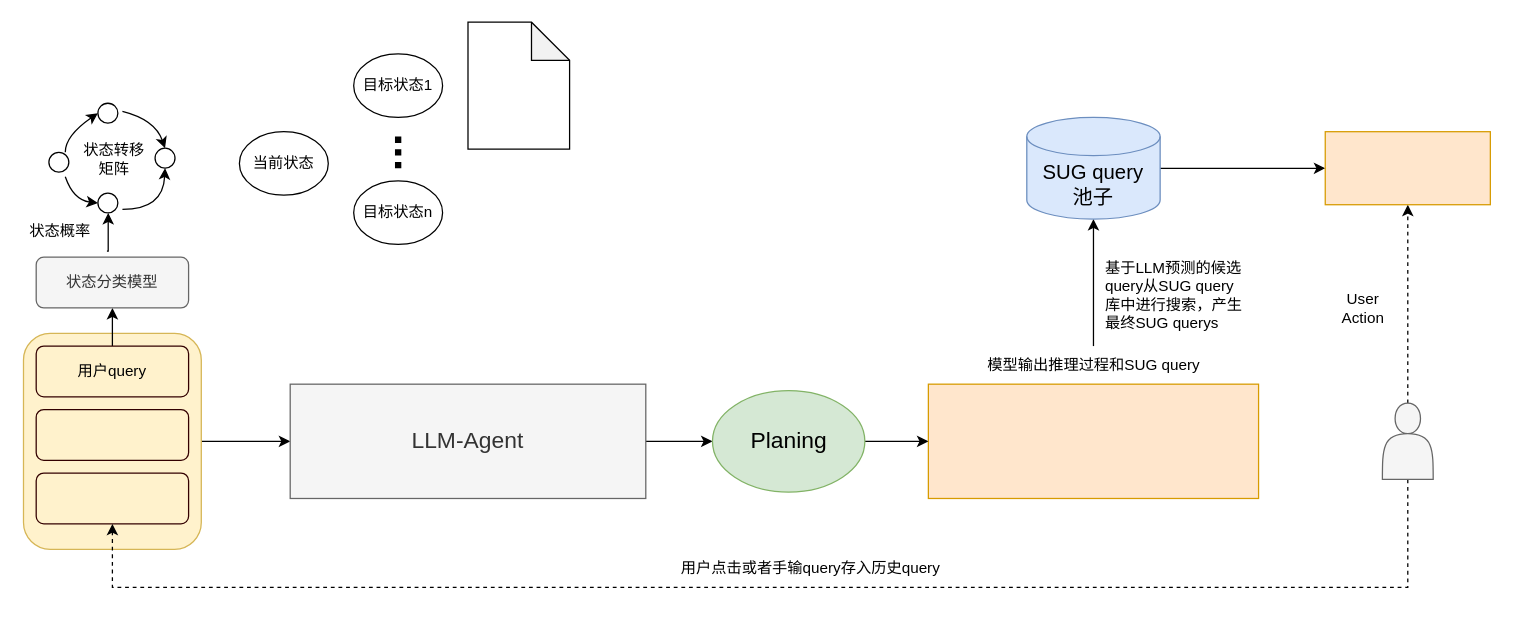
This 1513x620 diagram has some shape labels left out. The shapes that lost their labels are listed below. From the top down, each one's centre as x and y in pixels, then its label:
At pixel 1407 167: "Final SUG query1 Final SUG query2 Final SUG query3".
At pixel 112 434: "用户画像".
At pixel 1093 440: "基于以上策划，我推测用户可能会问以下问题： 1. <CoT> <query> 2. <CoT> <query> 3. <CoT> <query>".
At pixel 112 498: "用户历史querys".
